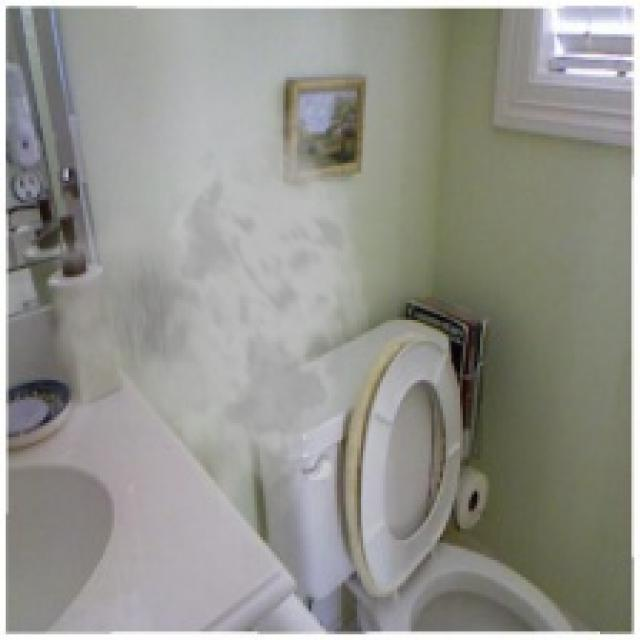Smoke: (19, 103, 372, 523)
